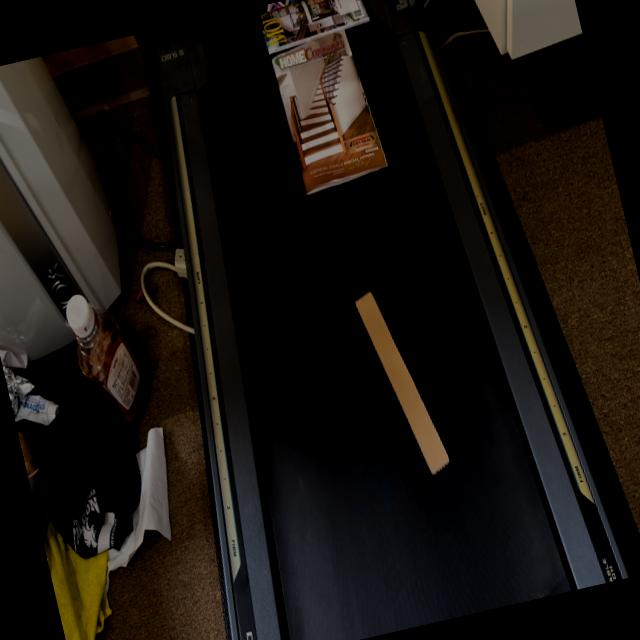Recycle: (244, 0, 454, 225), (331, 260, 488, 493)
